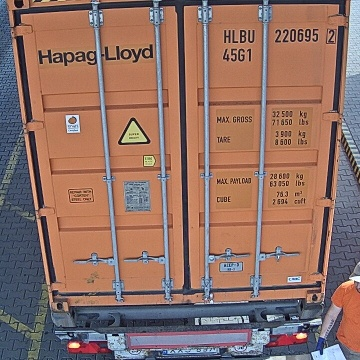serial_id: (224, 28, 336, 43)
